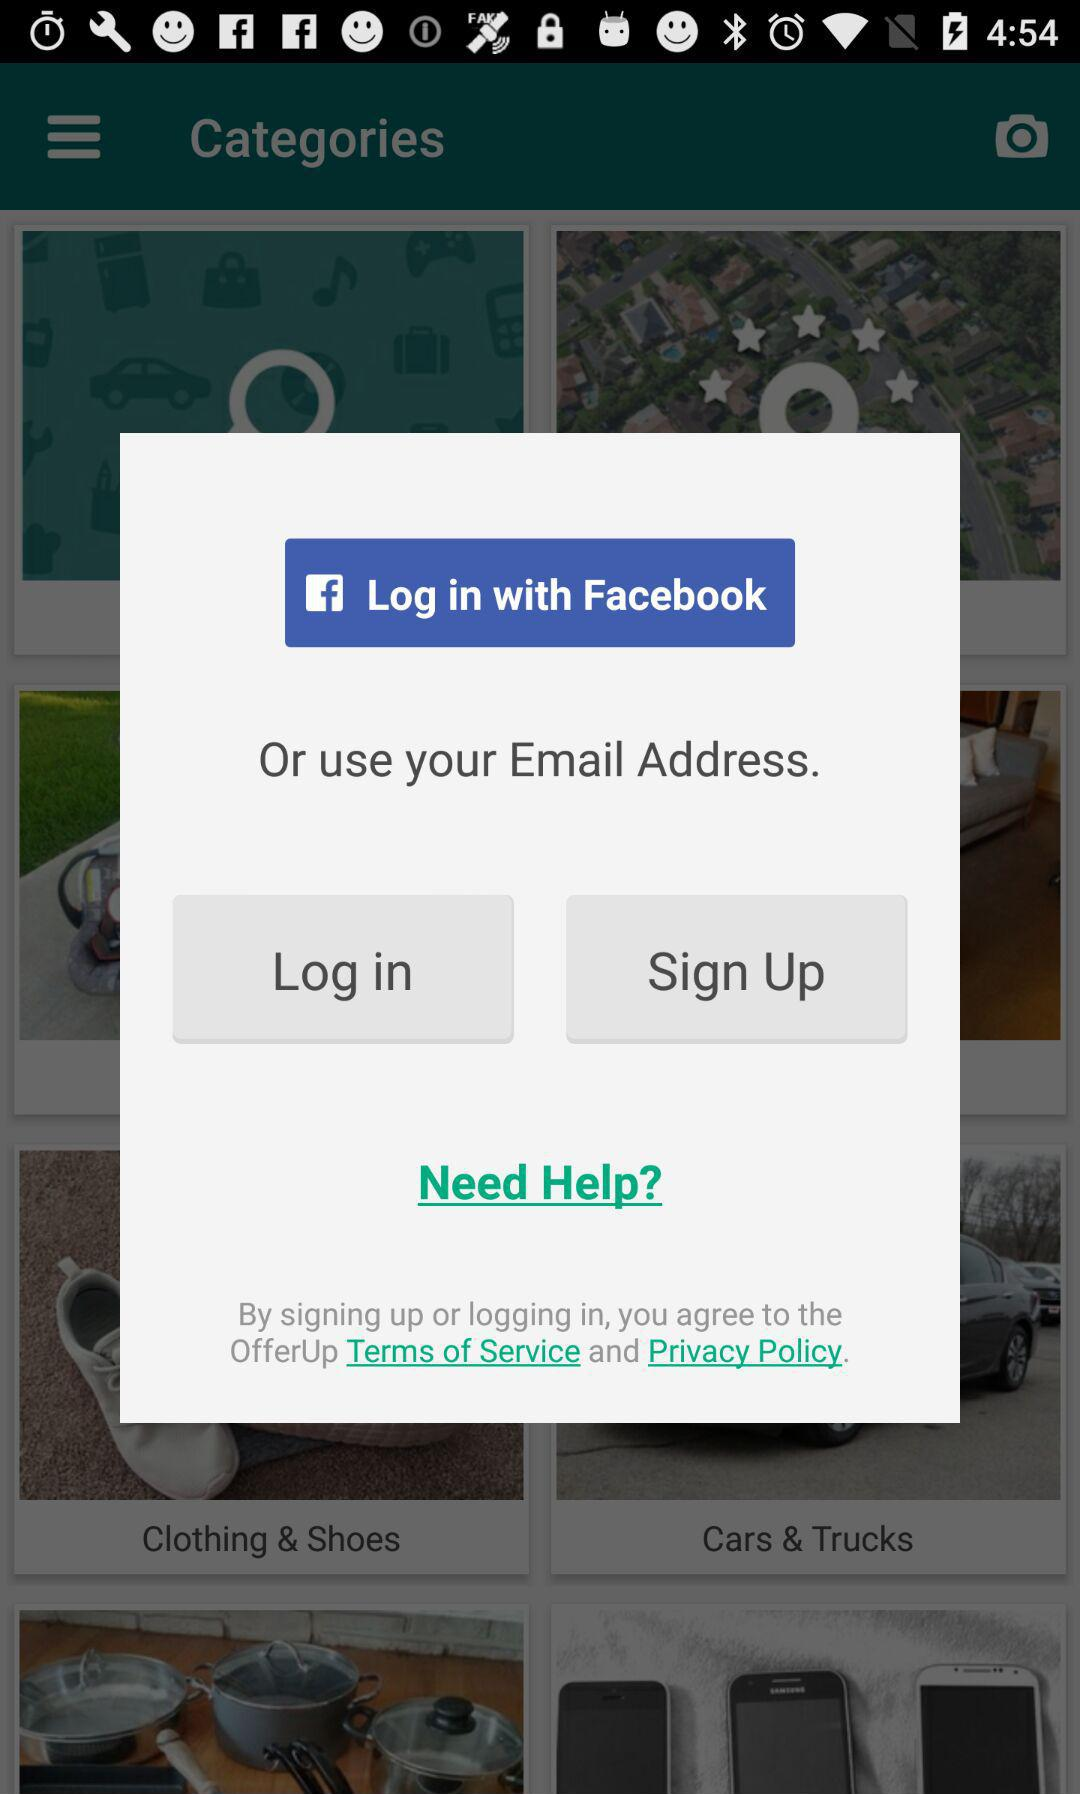Icon: (995, 114, 1051, 161), (47, 115, 102, 161)
Image: (550, 1604, 1068, 1794), (20, 1609, 525, 1794)
Modal: (120, 434, 960, 1424)
Text: (231, 1302, 849, 1370), (260, 742, 819, 787), (190, 118, 445, 170), (143, 1524, 400, 1559), (705, 1525, 913, 1553)
TextButton: (286, 539, 796, 648), (566, 894, 910, 1044), (173, 894, 515, 1044), (419, 1164, 664, 1208)
UpperTaskBar: (1, 1, 1080, 64)
